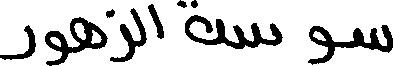X: (186, 0, 223, 49), (72, 7, 106, 57), (236, 18, 280, 53), (0, 20, 34, 64), (354, 20, 392, 57), (112, 4, 132, 65), (306, 21, 332, 65), (45, 26, 66, 65), (134, 4, 144, 57), (149, 0, 161, 43)
